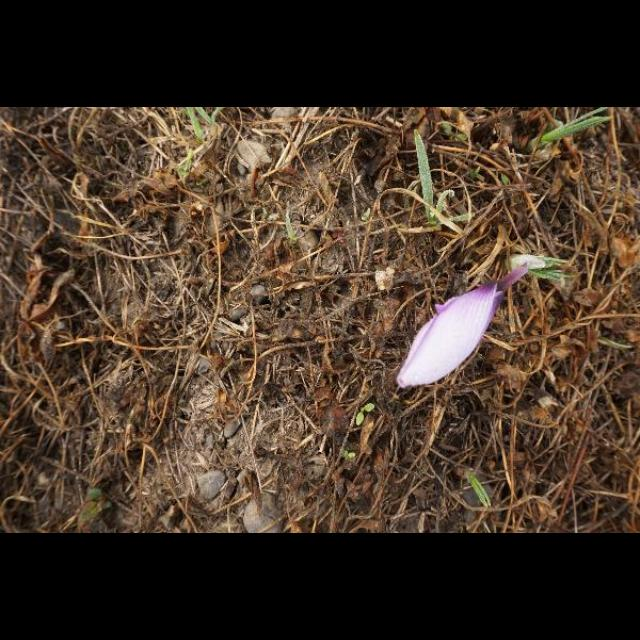flower: (397, 284, 503, 388)
